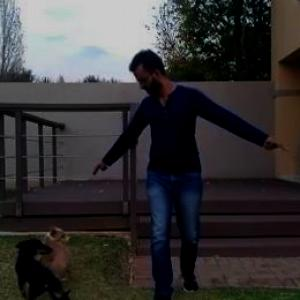land: (52, 32, 299, 299)
